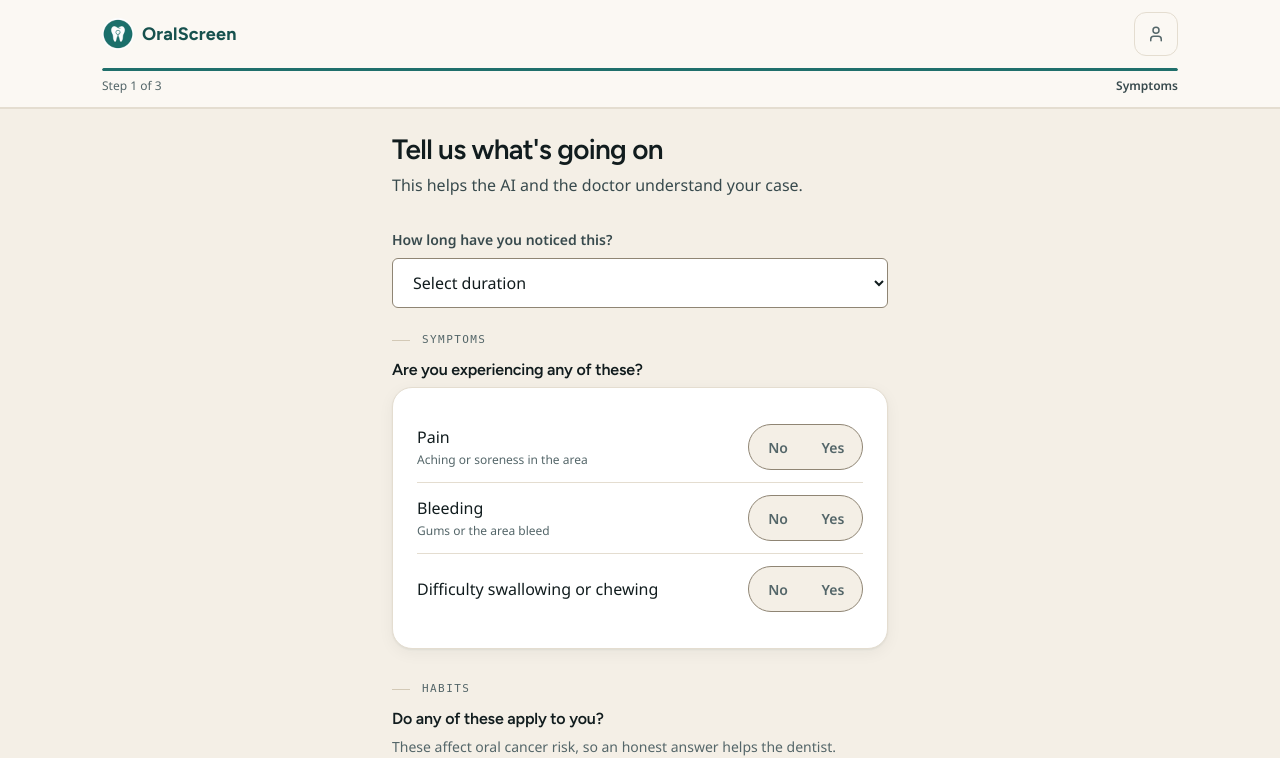
Test: completeness gating › asks only for the duration once every question is answered
Click the button "No" in the row of "Aching or soreness in the area".
click(778, 447)  # box [752, 428, 804, 466]
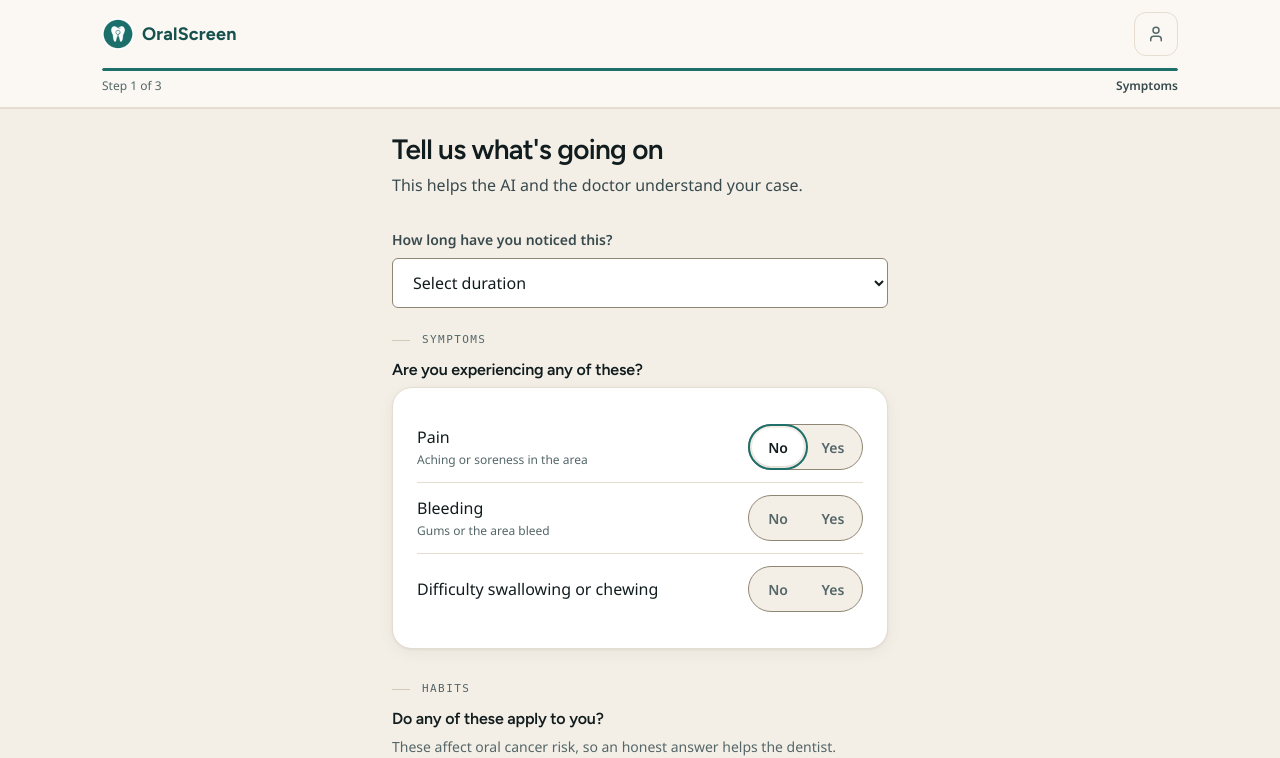
Click the button "No" in the row of "Gums or the area bleed".
click(778, 518)  # box [752, 499, 804, 537]
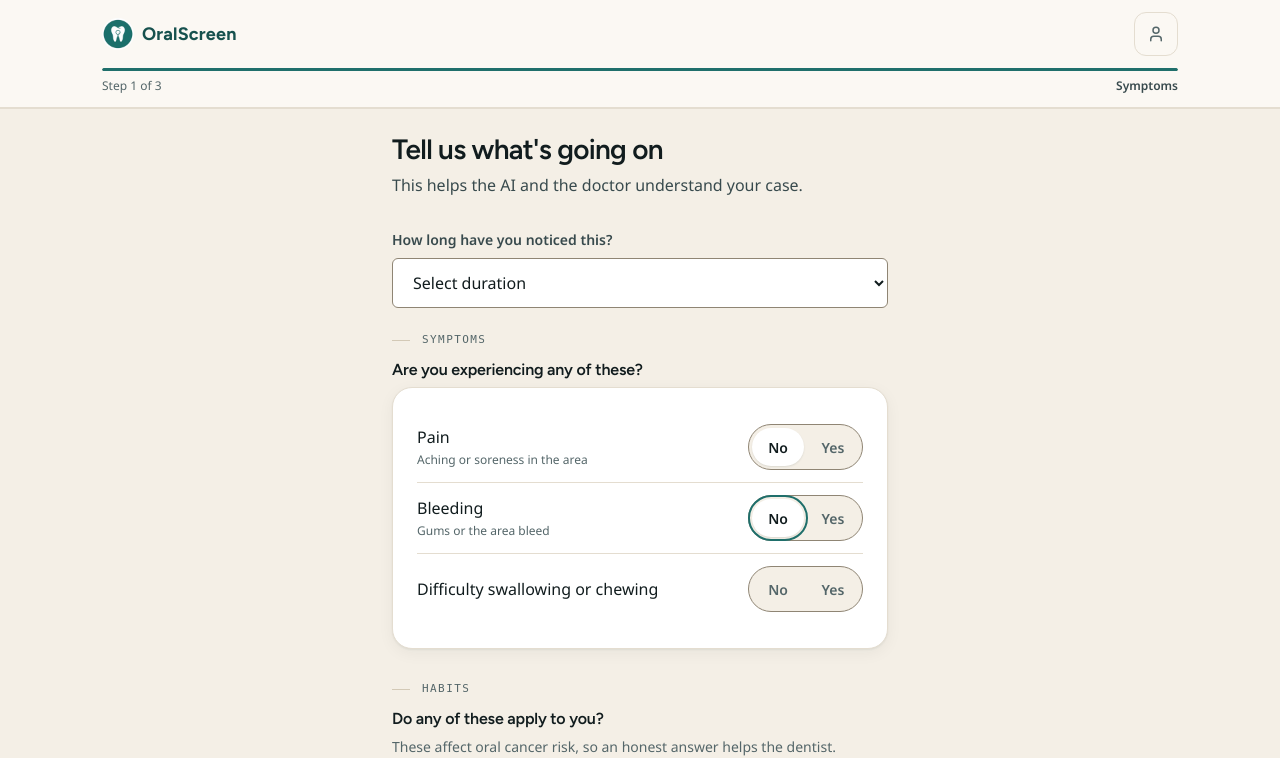
Click the button "No" next to "Difficulty swallowing or chewing".
click(778, 589)  # box [752, 570, 804, 608]
(page scrolled)
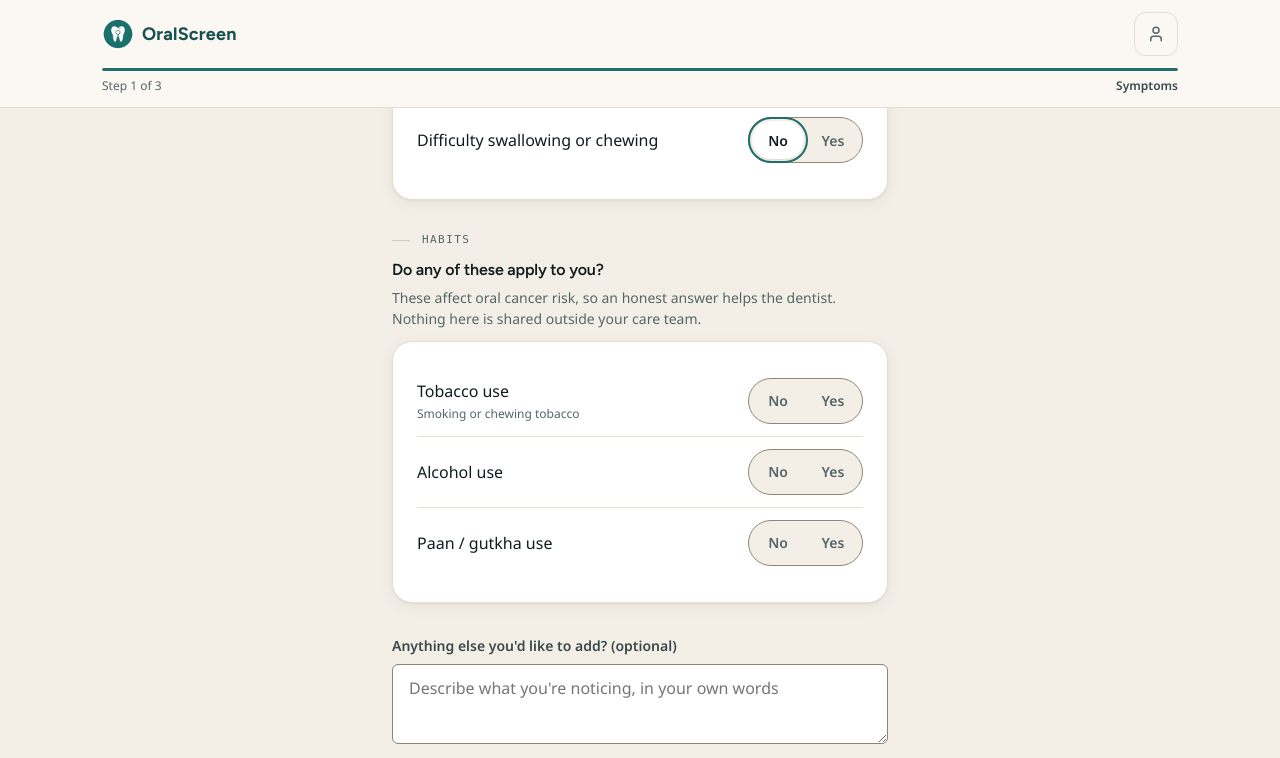
Click the button "No" in the row of "Smoking or chewing tobacco".
click(778, 401)  # box [752, 382, 804, 420]
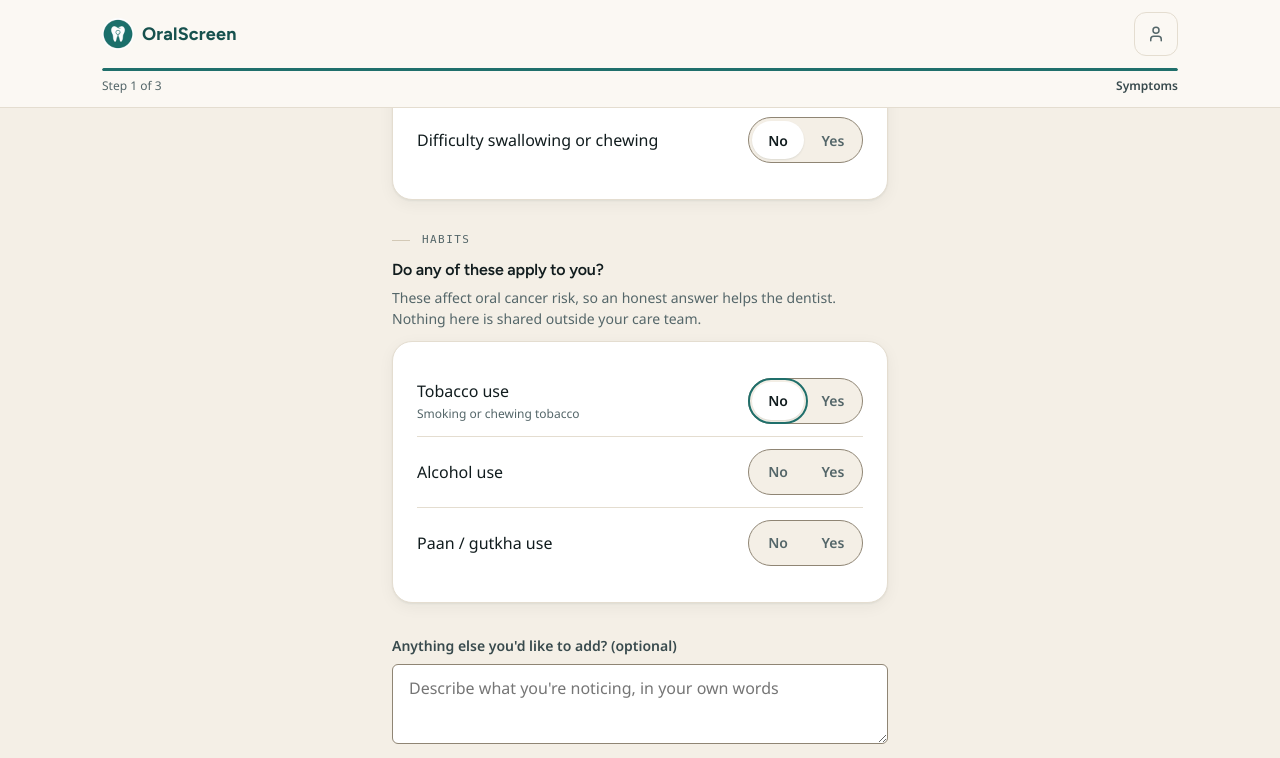
Click the button "No" in the row of "Alcohol use".
click(778, 472)  # box [752, 453, 804, 491]
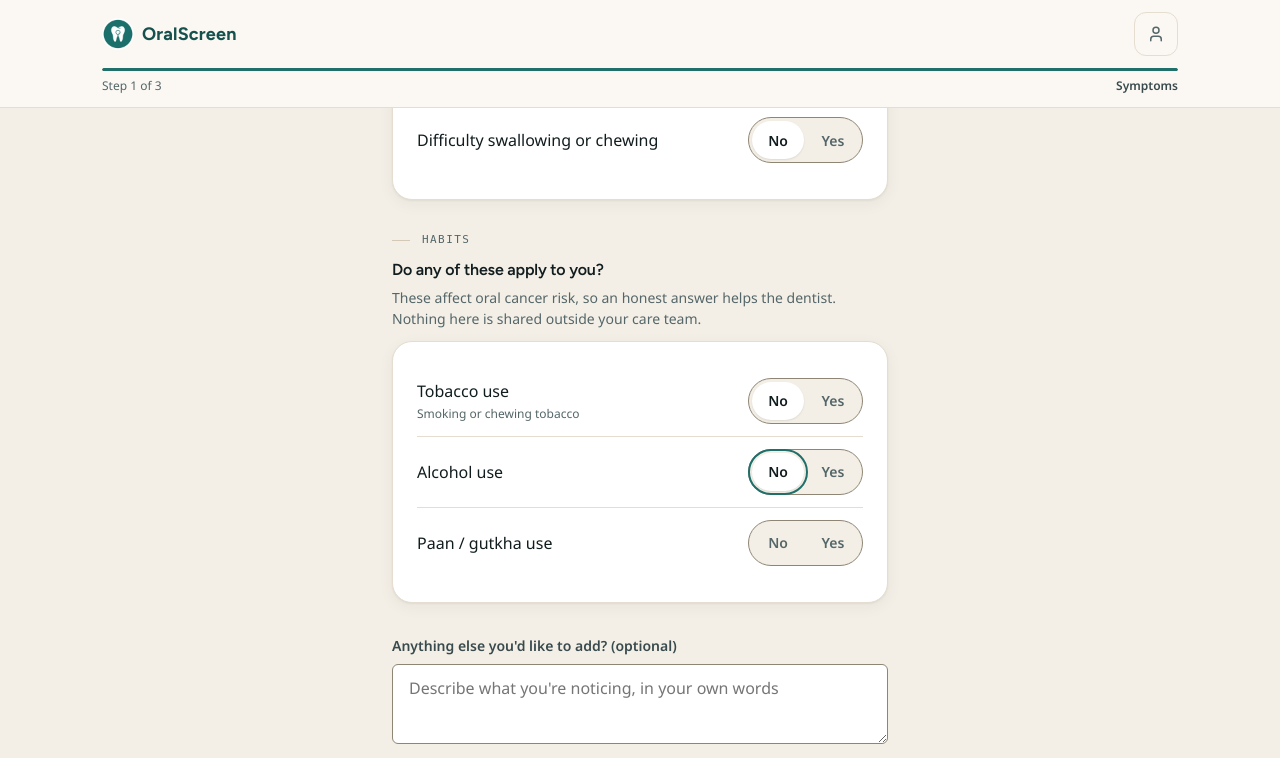
Click the button "No" in the row of "Paan / gutkha use".
click(778, 543)  # box [752, 524, 804, 562]
(page scrolled)
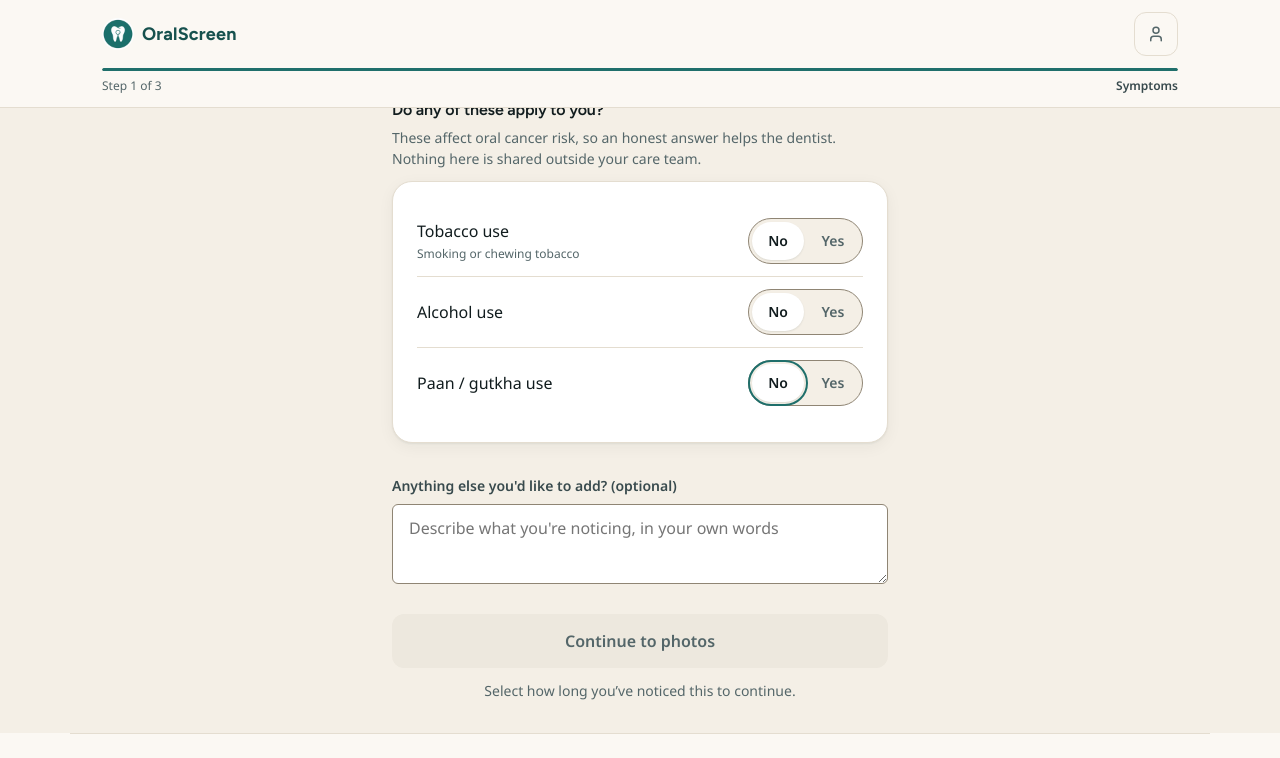
Expected: the message reads "Select how long you’ve noticed this to continue.", [484, 681, 796, 700]
